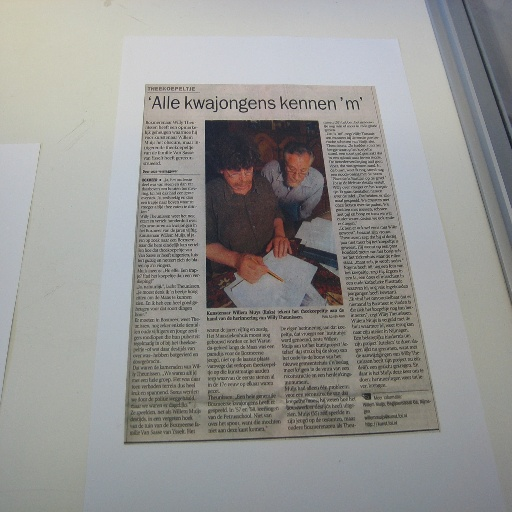hand: (235, 249, 267, 285), (264, 236, 293, 259)
